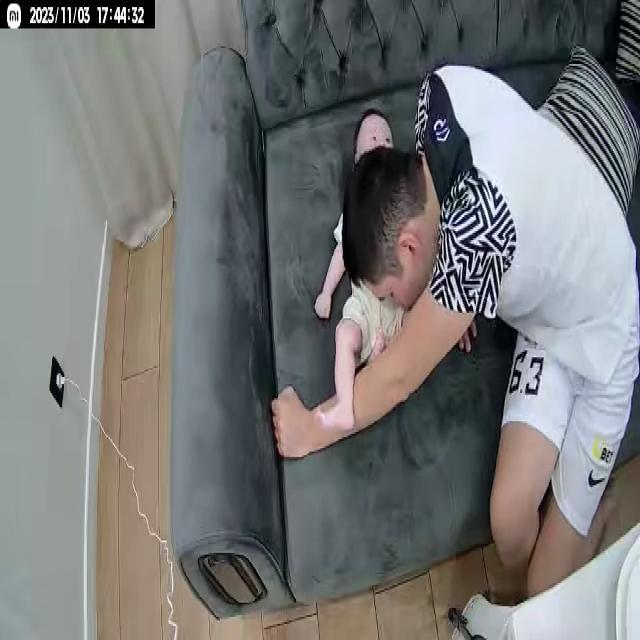baby: (312, 106, 424, 437)
